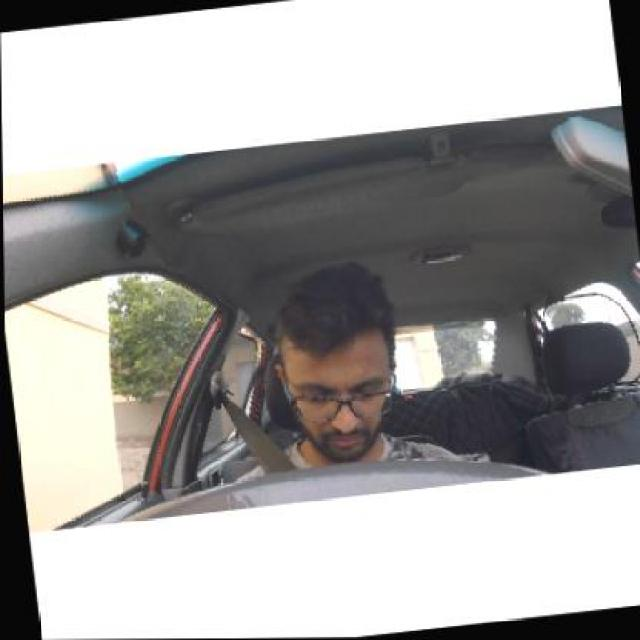drowsy: (251, 256, 418, 447)
